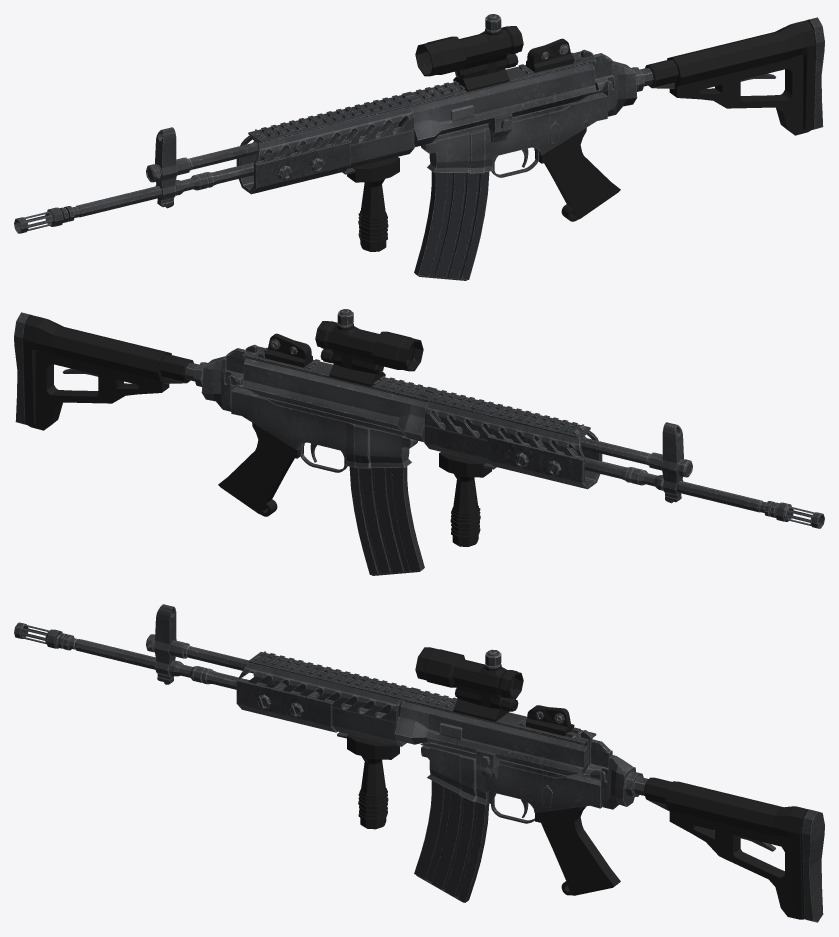
Rendered from Gun_K-2.fbx.
3 renders of one model, top to bottom at view 1: azimuth 30°, elevation 25°; view 2: azimuth 150°, elevation 25°; view 3: azimuth 330°, elevation 25°, orthographic.
Visible parts, largest first — view 1: Cylinder.011, Cylinder, Cube.012, Cube.002, Cylinder.004, Cube.014, Cube.017, Cube.003, Cylinder.003, Cube.005, Cube.009, Cylinder.001 (+8 smaller); view 2: Cylinder.011, Cylinder, Cube.002, Cube.012, Cylinder.004, Cube.014, Cube.017, Cube.003, Cylinder.003, Cube.005, Cube.009, Cylinder.001 (+8 smaller); view 3: Cylinder.011, Cylinder, Cube.012, Cube.002, Cylinder.004, Cube.017, Cube.014, Cylinder.003, Cube.003, Cube.005, Cube.009, Cylinder.001 (+8 smaller).
Boxes of the visible parts, x1,y1,x2,y2 form: Cylinder.011: (631, 17, 824, 129); Cylinder: (398, 62, 596, 146); Cube.012: (414, 171, 489, 280); Cube.002: (421, 92, 607, 173); Cylinder.004: (415, 14, 523, 91); Cube.014: (669, 55, 812, 135); Cube.017: (535, 127, 620, 221); Cube.003: (237, 107, 414, 192); Cylinder.003: (14, 126, 400, 233); Cube.005: (347, 157, 399, 251); Cube.009: (236, 141, 350, 194); Cylinder.001: (248, 51, 596, 143); Cylinder.011: (14, 312, 207, 424); Cylinder: (242, 357, 440, 441); Cube.002: (231, 387, 417, 468); Cube.012: (349, 466, 424, 575); Cylinder.004: (315, 309, 423, 386); Cube.014: (26, 350, 169, 430); Cube.017: (218, 422, 303, 516); Cube.003: (424, 402, 601, 487); Cylinder.003: (438, 421, 824, 528); Cube.005: (439, 452, 491, 546); Cube.009: (488, 436, 602, 489); Cylinder.001: (242, 346, 590, 438); Cylinder.011: (624, 772, 824, 922); Cylinder: (394, 701, 588, 775); Cube.012: (414, 780, 489, 902); Cube.002: (421, 745, 602, 812); Cylinder.004: (415, 647, 523, 721); Cube.017: (535, 806, 620, 895); Cube.014: (669, 810, 804, 919); Cylinder.003: (14, 622, 399, 720); Cube.003: (245, 663, 406, 746); Cube.005: (347, 734, 399, 829); Cube.009: (236, 680, 337, 732); Cylinder.001: (248, 652, 596, 744).
Size of the model in its own units: 130 by 39.83 by 6.66.
1 material, 1 textured.
